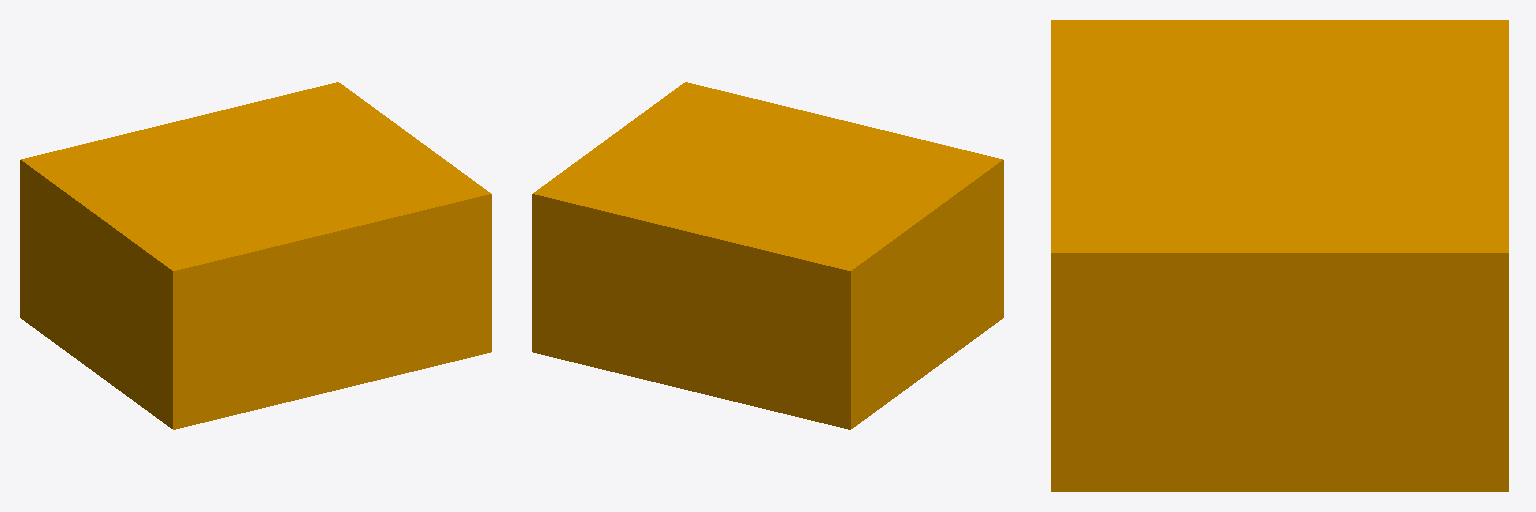
URDF robot description (object):
<?xml version="1.0"?>
<!-- Auto-generated by tools/gen_primitive_objects.py. kind=box dims=(0.093099, 0.077469, 0.044369) -->
<robot name="object">
  <link name="object">
    <visual>
      <origin xyz="0 0 0"/>
      <geometry>
        <box size="0.093099 0.077469 0.044369"/>
      </geometry>
    </visual>
    <collision>
      <origin xyz="0 0 0"/>
      <geometry>
        <box size="0.093099 0.077469 0.044369"/>
      </geometry>
    </collision>
    <inertial>
      <mass value="0.064000"/>
      <inertia ixx="0.00004251" ixy="0.0" ixz="0.0" iyy="0.00005673" iyz="0.0" izz="0.00007823"/>
    </inertial>
  </link>
</robot>

--- What the picture shows (computed from the rendered views, not written in the file) ---
Views: 3 orthographic renders of the robot side by side, from view 1: azimuth 30°, elevation 25°; view 2: azimuth 150°, elevation 25°; view 3: azimuth 270°, elevation 25°.
Robot: object — 1 links, 0 joints (none); root link object; default pose: all joints at 0.
Visible links, largest first — view 1: object; view 2: object; view 3: object.
Link boxes in pixels (x1,y1,x2,y2): object: (20, 82, 491, 429); object: (532, 82, 1003, 429); object: (1051, 20, 1508, 491).
Bounding box of the posed robot: 0.0931 × 0.0775 × 0.0444 m (x, y, z).
Geometry: primitives only (box / cylinder / sphere), no mesh files.
